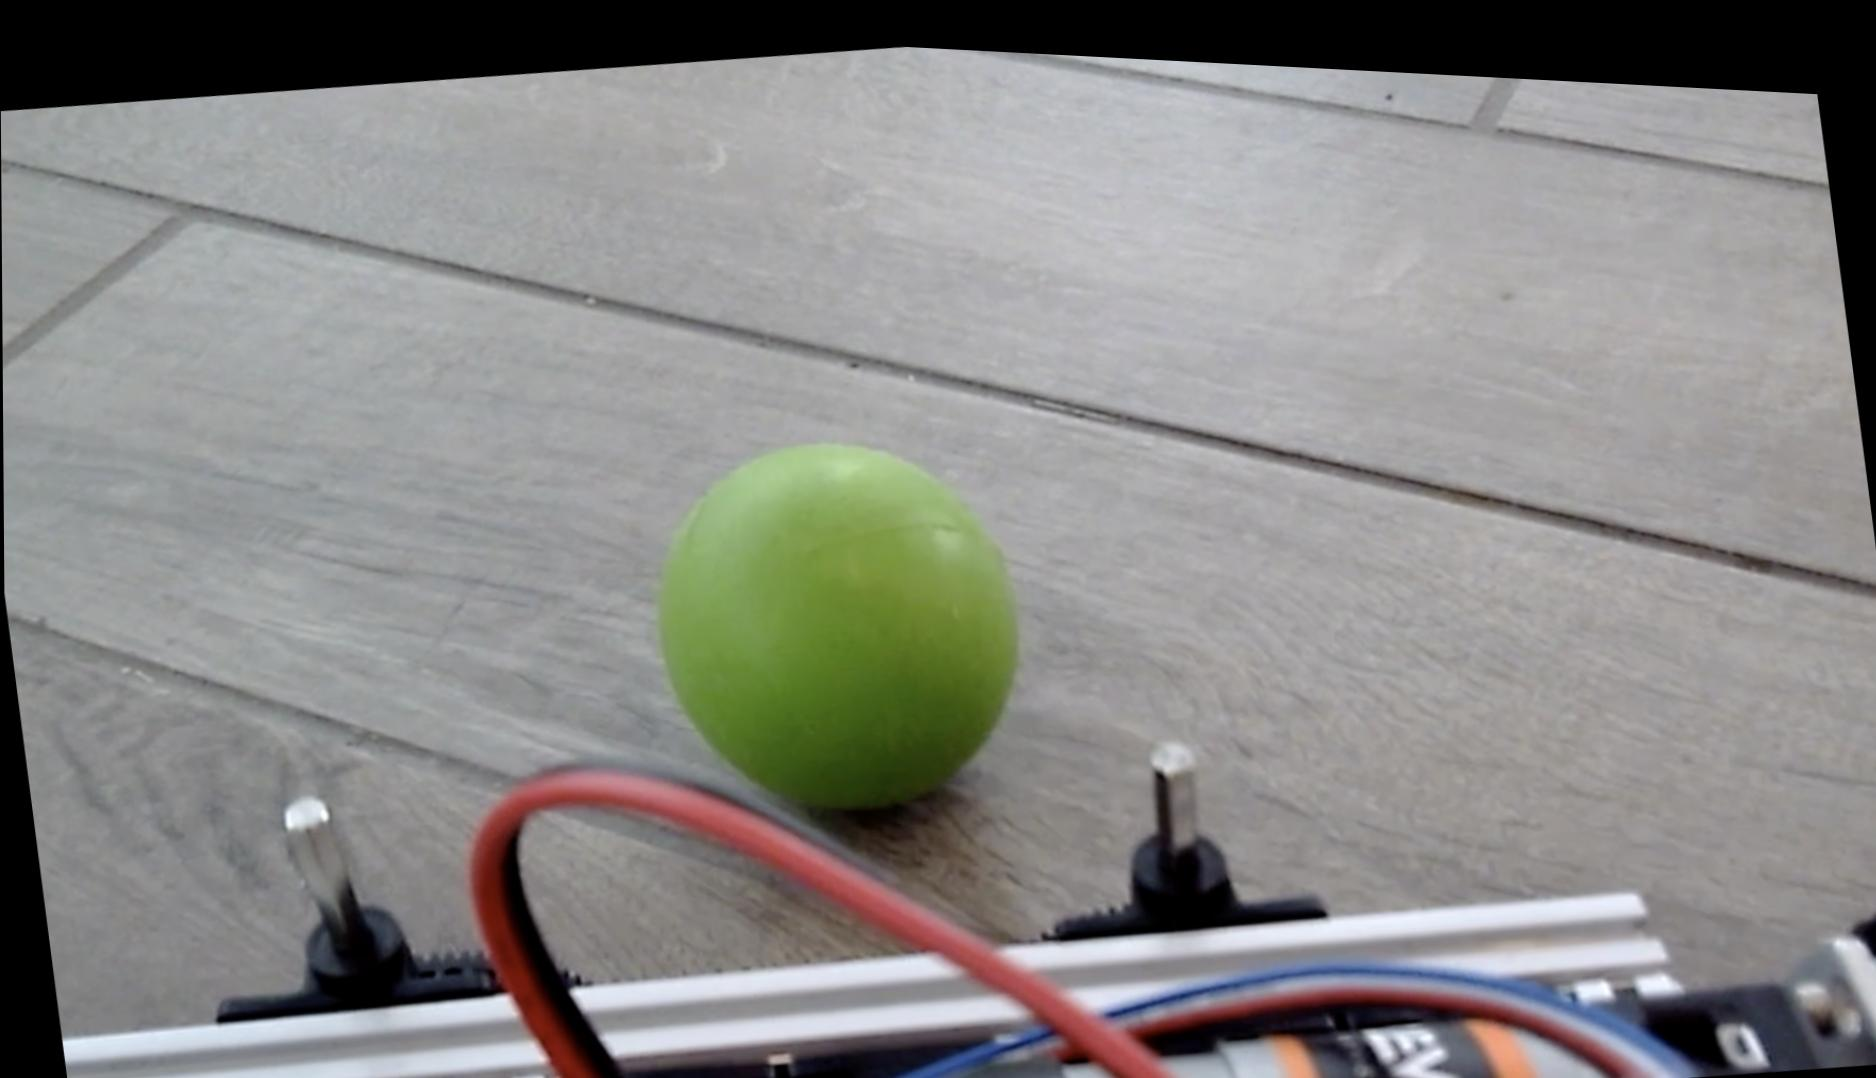greenball: (631, 399, 1042, 833)
